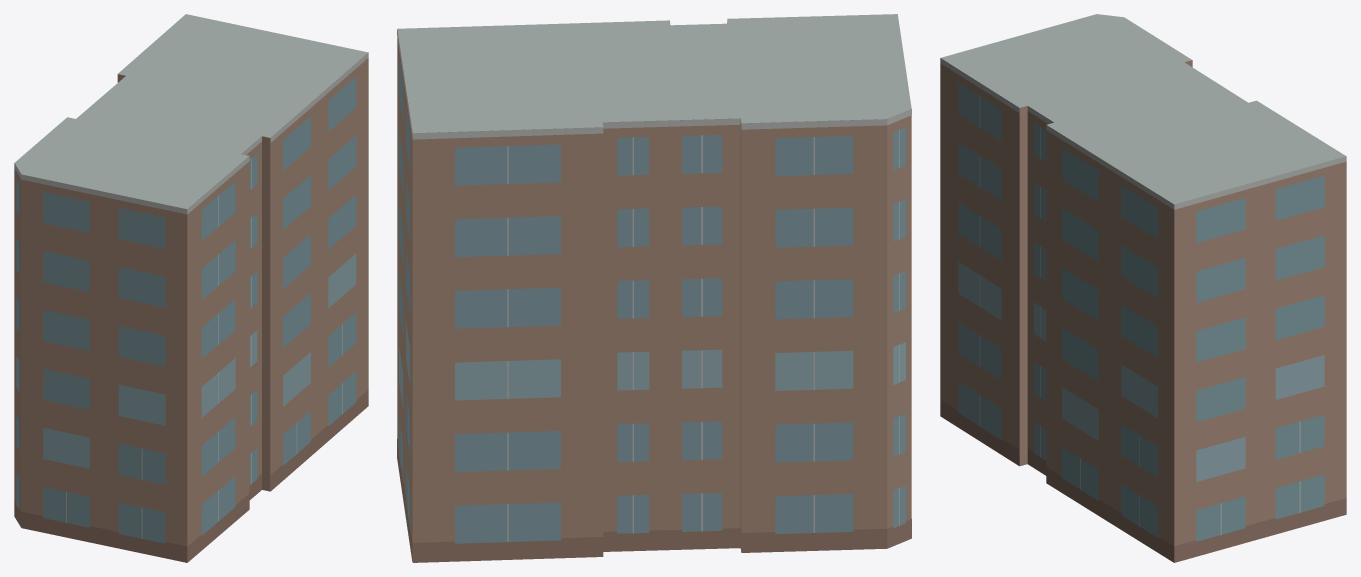
File: survey-upis-32926856.glb
3 renders of one model, left to right at view 1: azimuth 30°, elevation 25°; view 2: azimuth 150°, elevation 25°; view 3: azimuth 270°, elevation 25°, orthographic. The views are drawn at different scales.
Parts seen in each view (by area): view 1: survey-upis-32926856.tmp; view 2: survey-upis-32926856.tmp; view 3: survey-upis-32926856.tmp.
Part boxes in pixels (bbox=[...]): survey-upis-32926856.tmp: bbox=[14, 14, 368, 562]; survey-upis-32926856.tmp: bbox=[397, 14, 911, 562]; survey-upis-32926856.tmp: bbox=[940, 14, 1346, 562].
Bounding box in the file's own units: 18.82 × 16.5 × 16.96.
